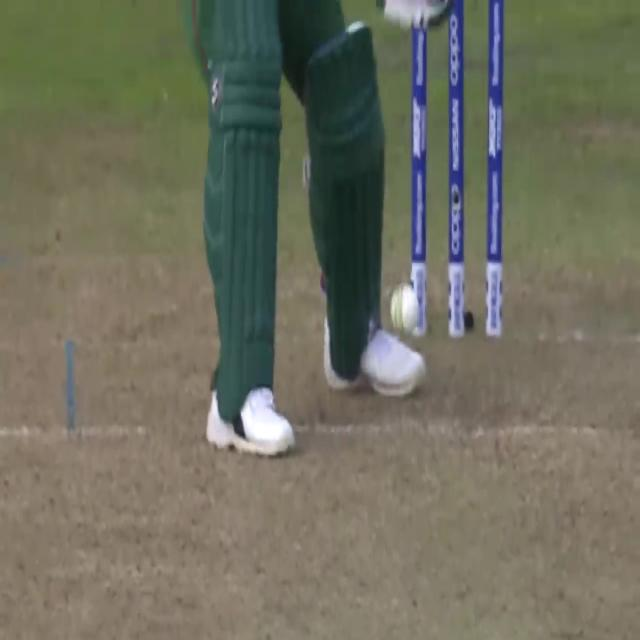ball: (389, 279, 422, 342)
